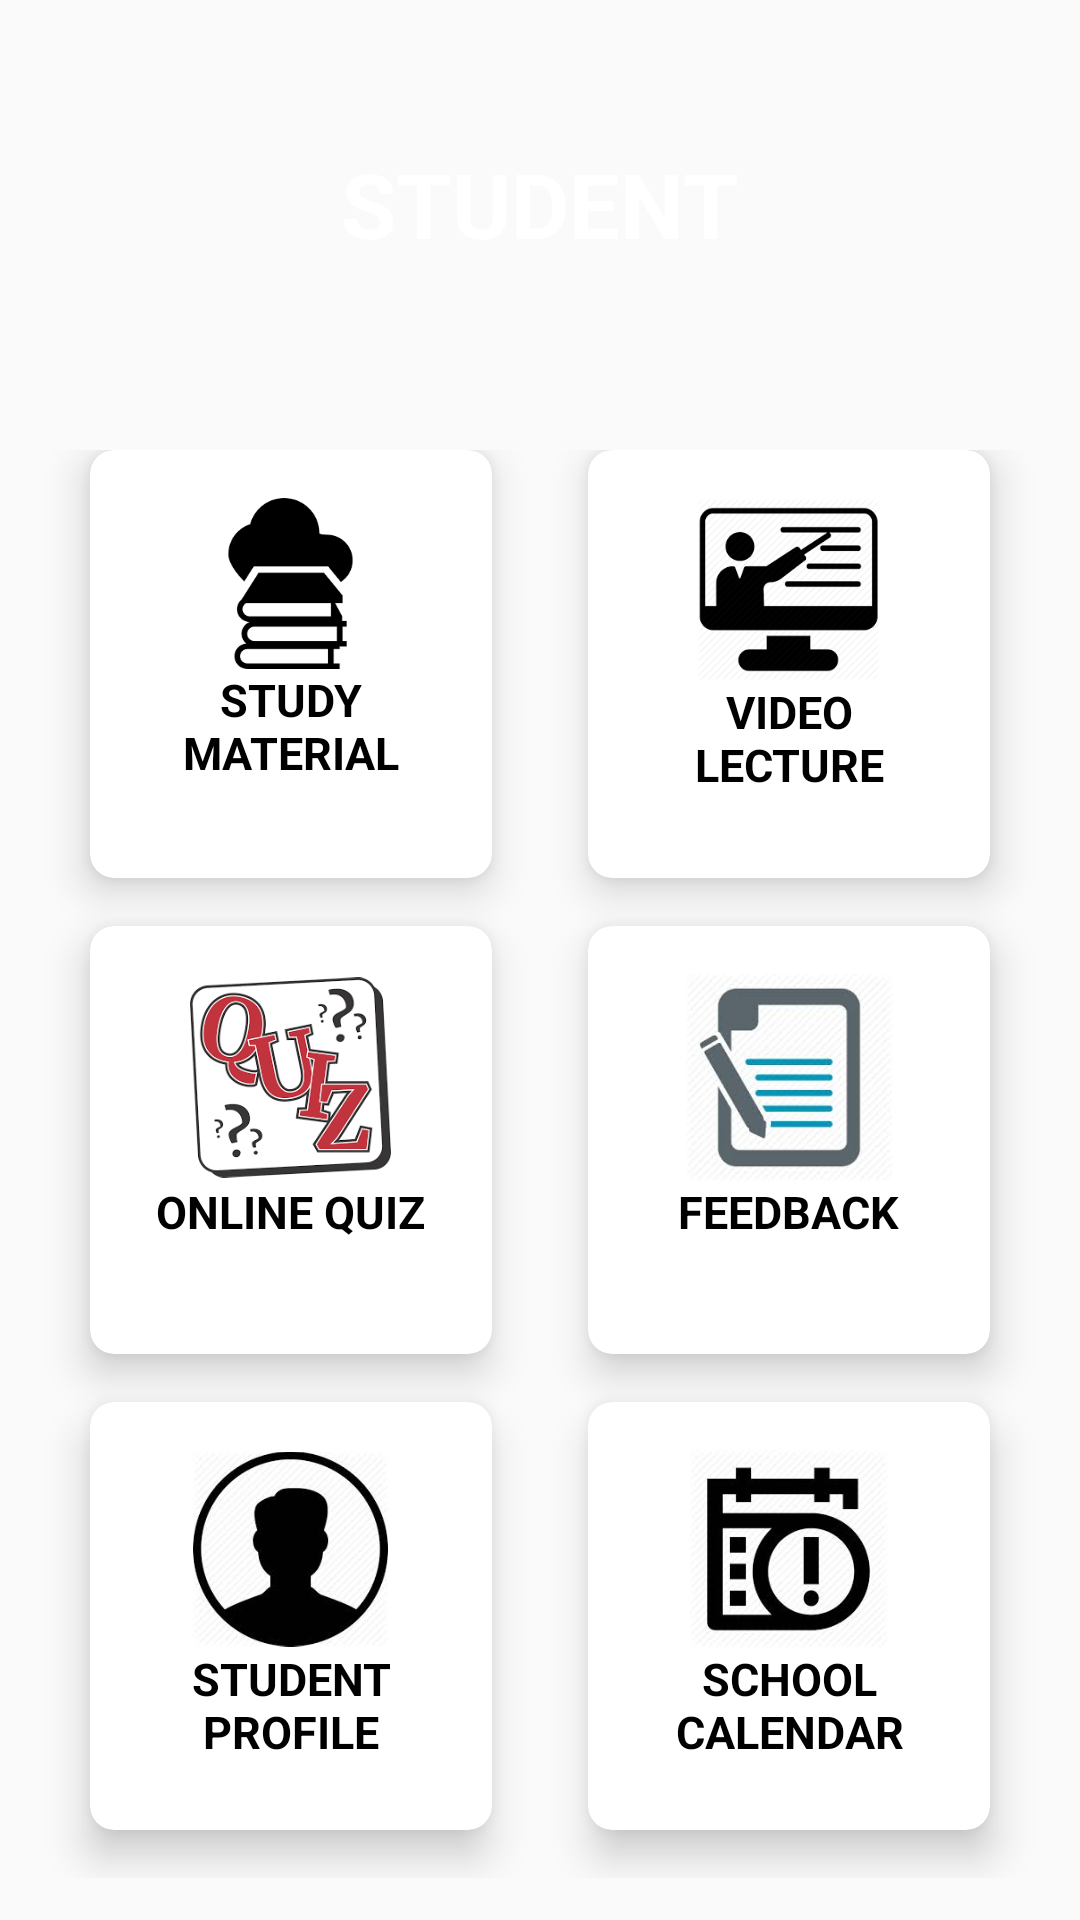

Icon bounding boxes for this 1080x1920 phone screenshot, format (x1, y1, x2, y2):
remainder: (706, 1467, 870, 1631)
